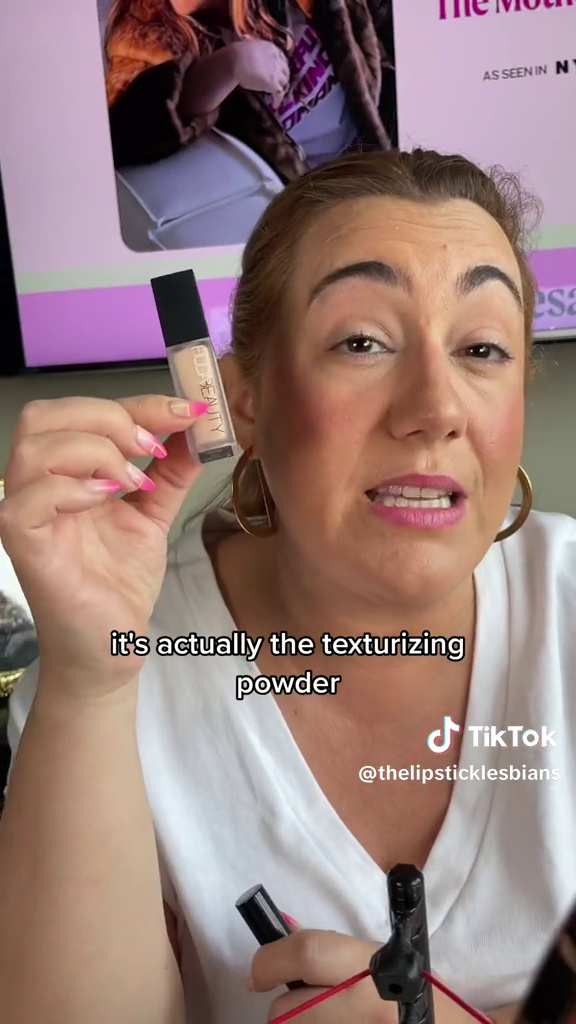train' :'yolo_data/train/images',: (144, 263, 245, 473)
